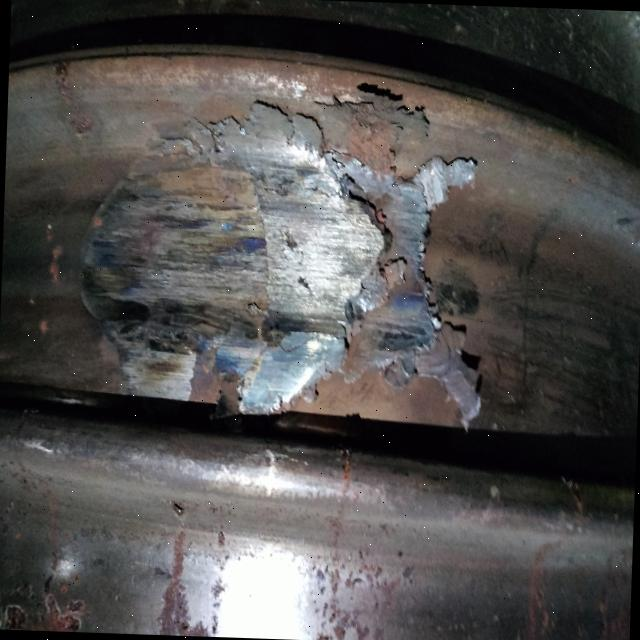Blue hole: (164, 487, 194, 522)
Rollerpile: (35, 84, 527, 431)
flat: (85, 148, 336, 382)
